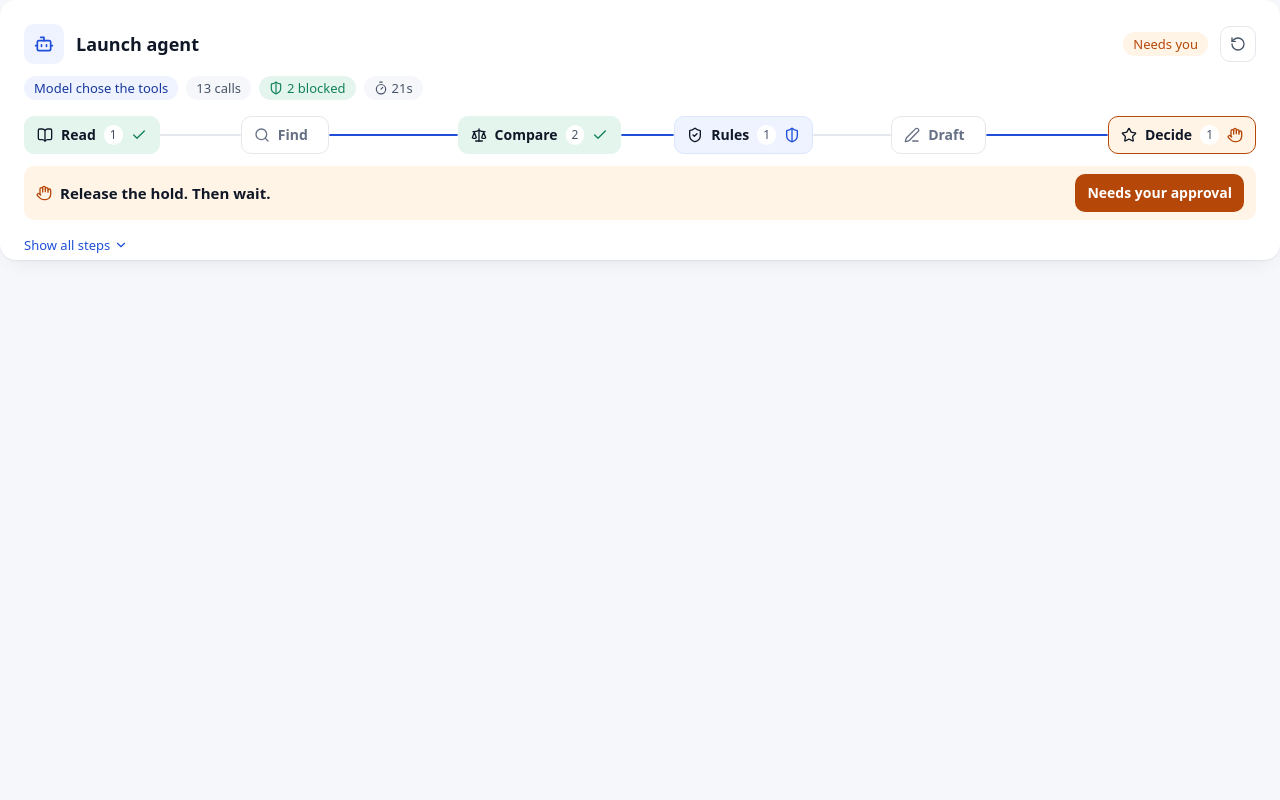
Test: AgentLive › renders finished trace rows, grouped, with counters and verdict
The width and height of the screenshot is (1280, 800).
Click the button "Show all steps".
click(76, 245)  # box [24,232,128,258]
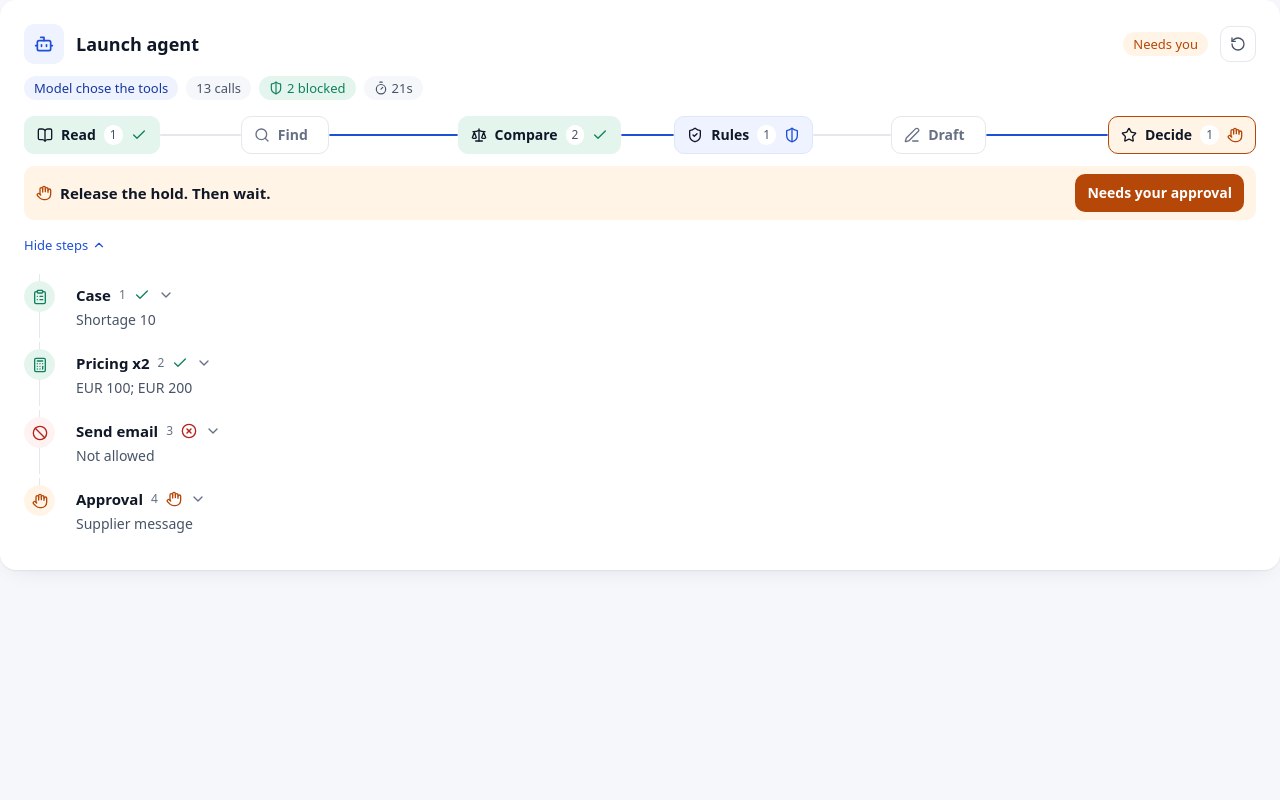
Expected: the text with test id "agent-calls" reads "13 calls", [196,79,241,97]
Result: the number of list items with test id "agent-step" is 4 at [24,274,1256,338]; [24,342,1256,406]; [24,410,1256,474]; [24,478,1256,542]
Result: the list item with test id "agent-step" shows "Pricing x2" at [64,342,1256,406]
